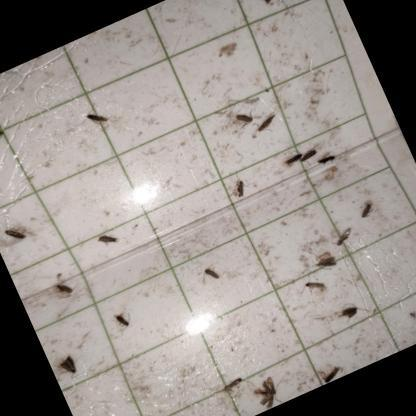prays_oleae: (242, 363, 288, 413), (47, 266, 86, 316), (349, 188, 386, 234), (330, 294, 371, 335), (196, 252, 234, 296), (248, 106, 291, 144), (298, 268, 336, 310), (86, 226, 128, 262), (56, 347, 90, 391), (224, 170, 258, 212), (106, 301, 140, 342), (0, 210, 34, 250), (225, 96, 259, 136), (306, 240, 343, 276), (271, 141, 306, 178), (215, 365, 250, 400), (328, 218, 364, 252), (312, 141, 342, 172), (82, 107, 114, 136), (294, 141, 323, 173), (316, 360, 349, 384), (0, 115, 12, 156), (247, 0, 281, 13)
